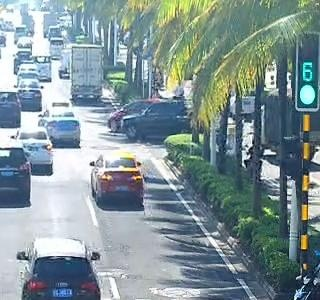greenpeople: (297, 84, 317, 105)
greentime: (300, 61, 317, 82)
